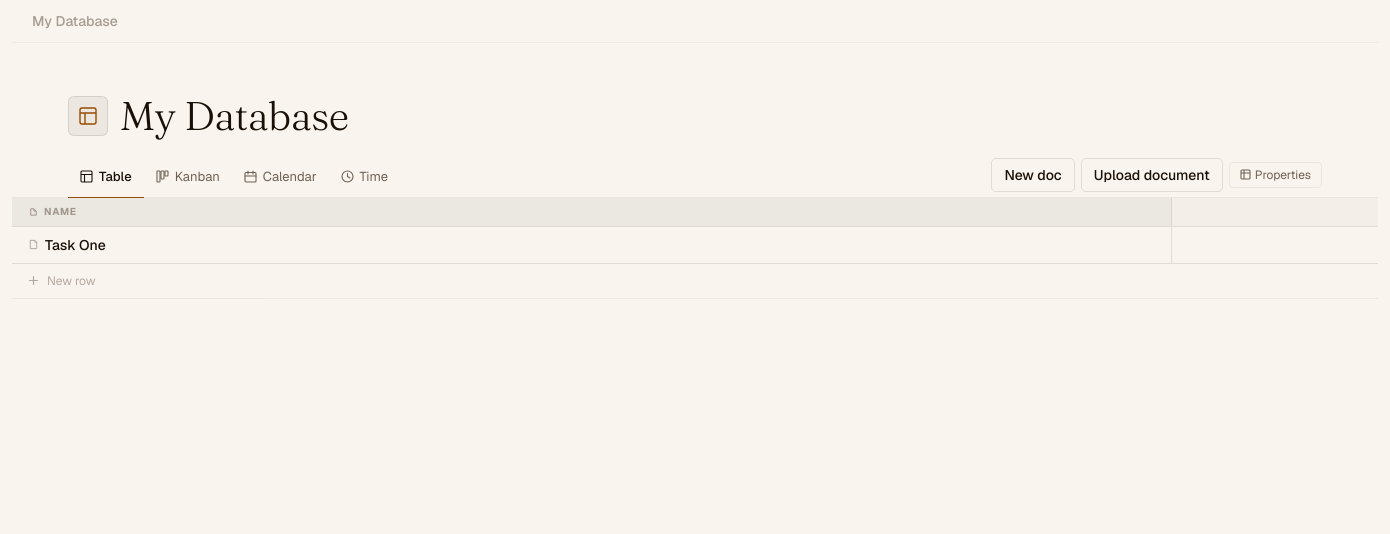
Test case: DatabaseShell + SchemaEditor + KanbanView + CalendarView integration › keeps the new field name filled in the real SchemaEditor when the real persist path fails, and does not add the field to the rendered schema
This screenshot has width=1390, height=534.
Click the button "Properties". click: (1275, 175)
box: [1229,162,1322,188]
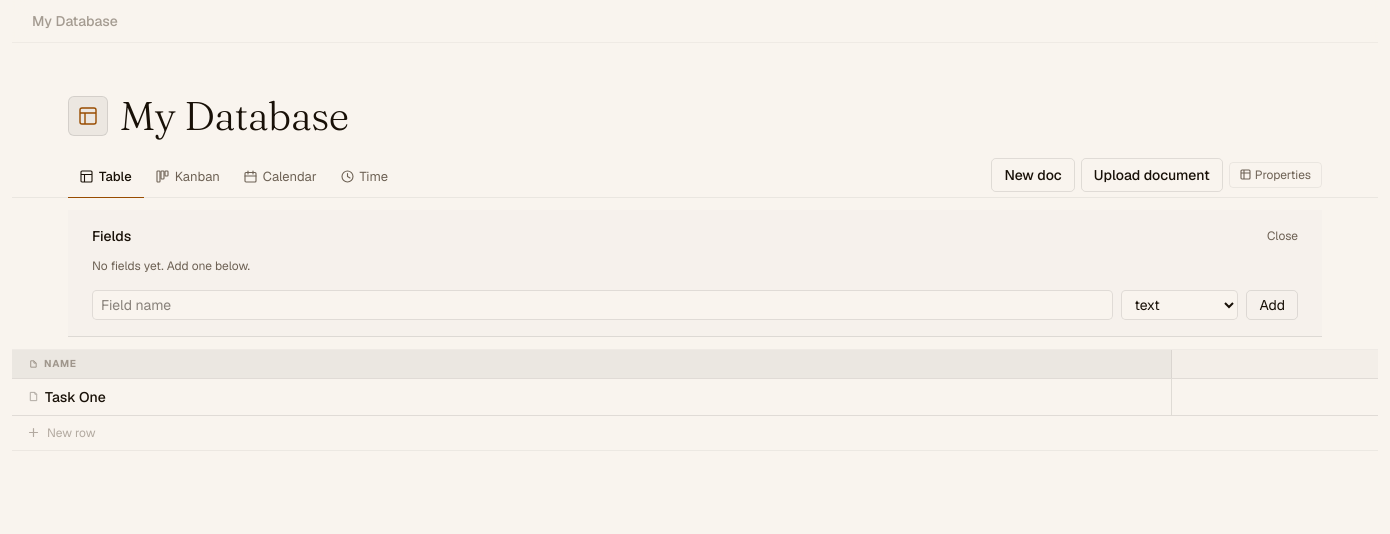
Type "Status" into the field named "New field name". click: (603, 304)
box: [92,290,1113,320]
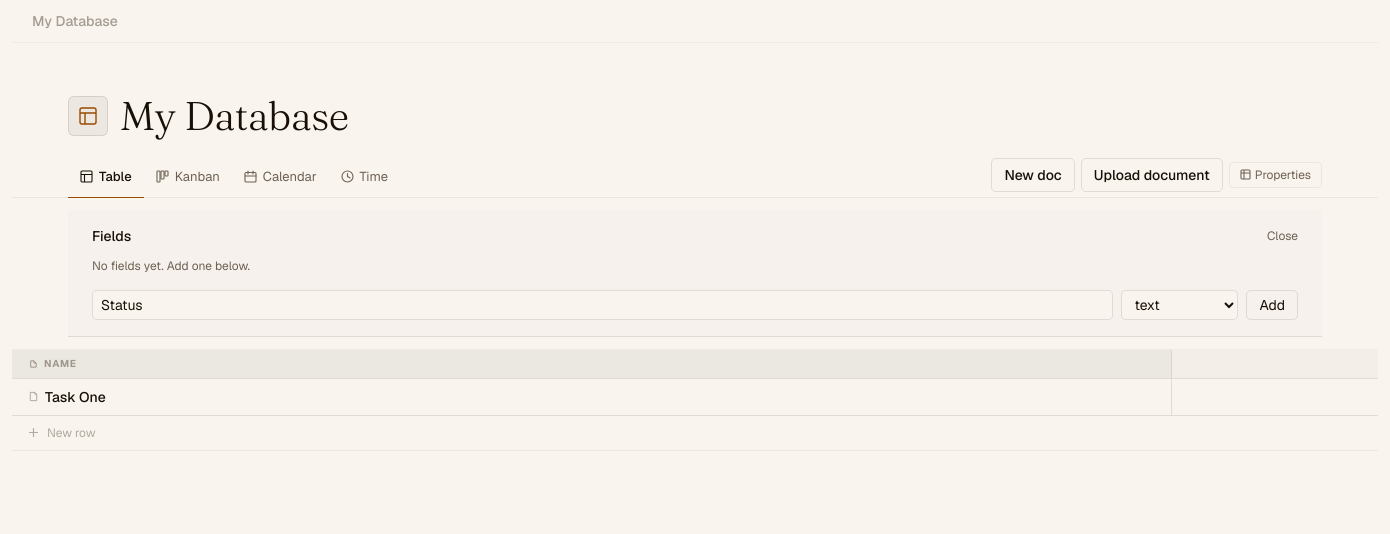
Select "select" in the dropdown named "Field type". click: (1180, 304)
box: [1121,290,1238,320]
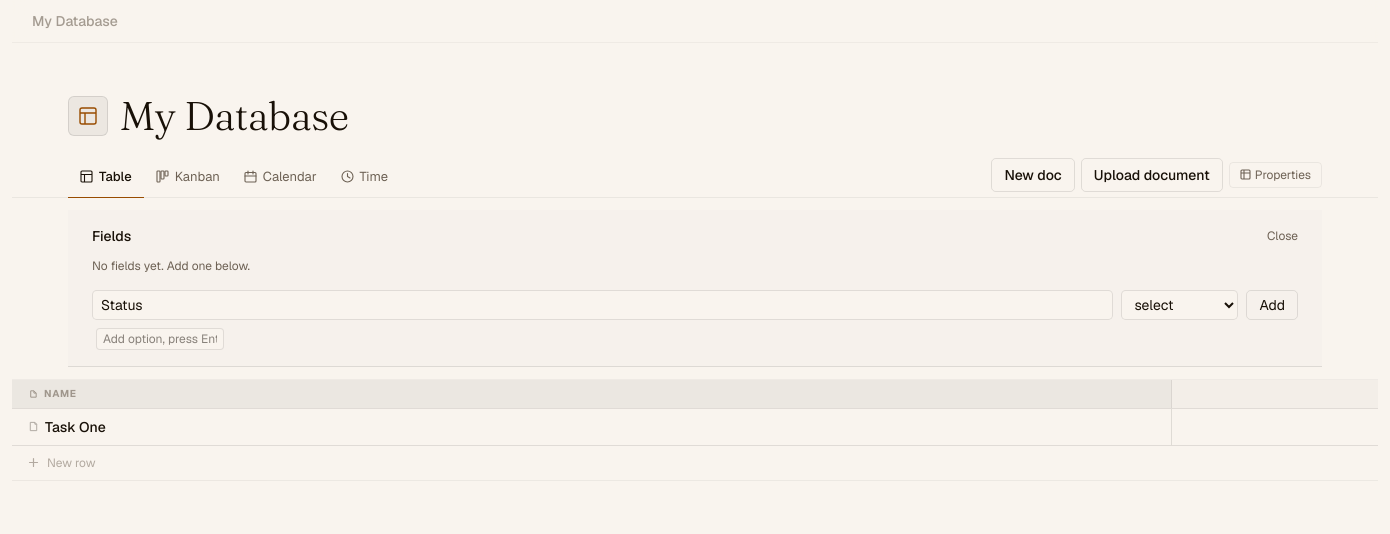
Click the button "Add". click: (1272, 304)
box: [1246,290,1298,320]
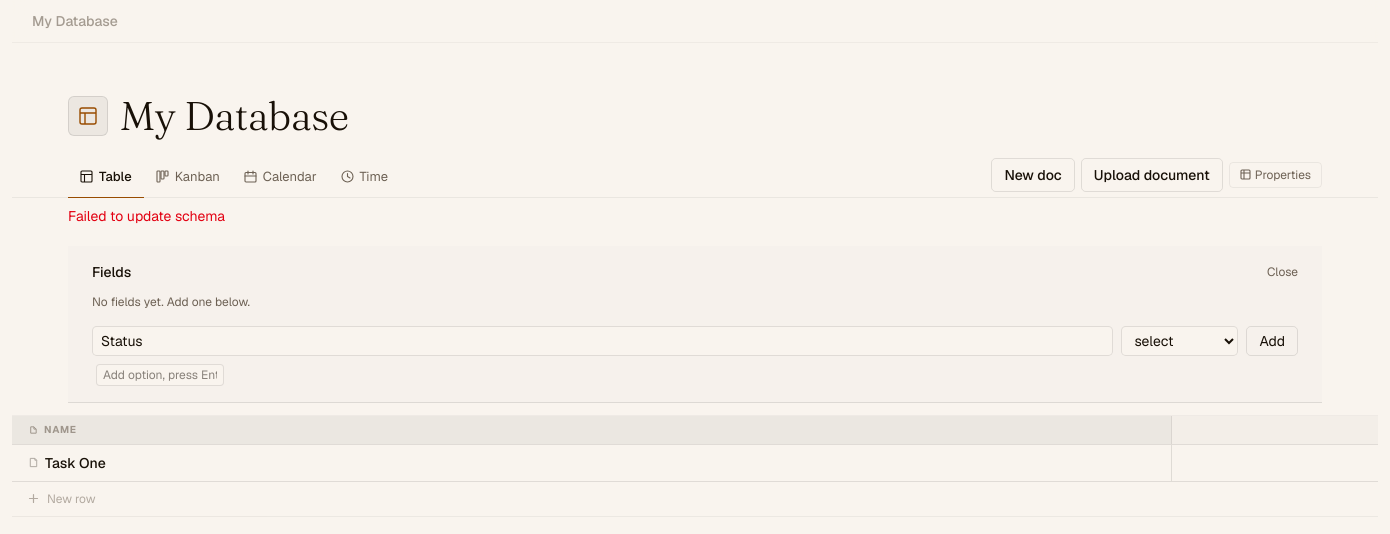
Expected: the text "Failed to update schema" is shown, [68,206,225,224]
